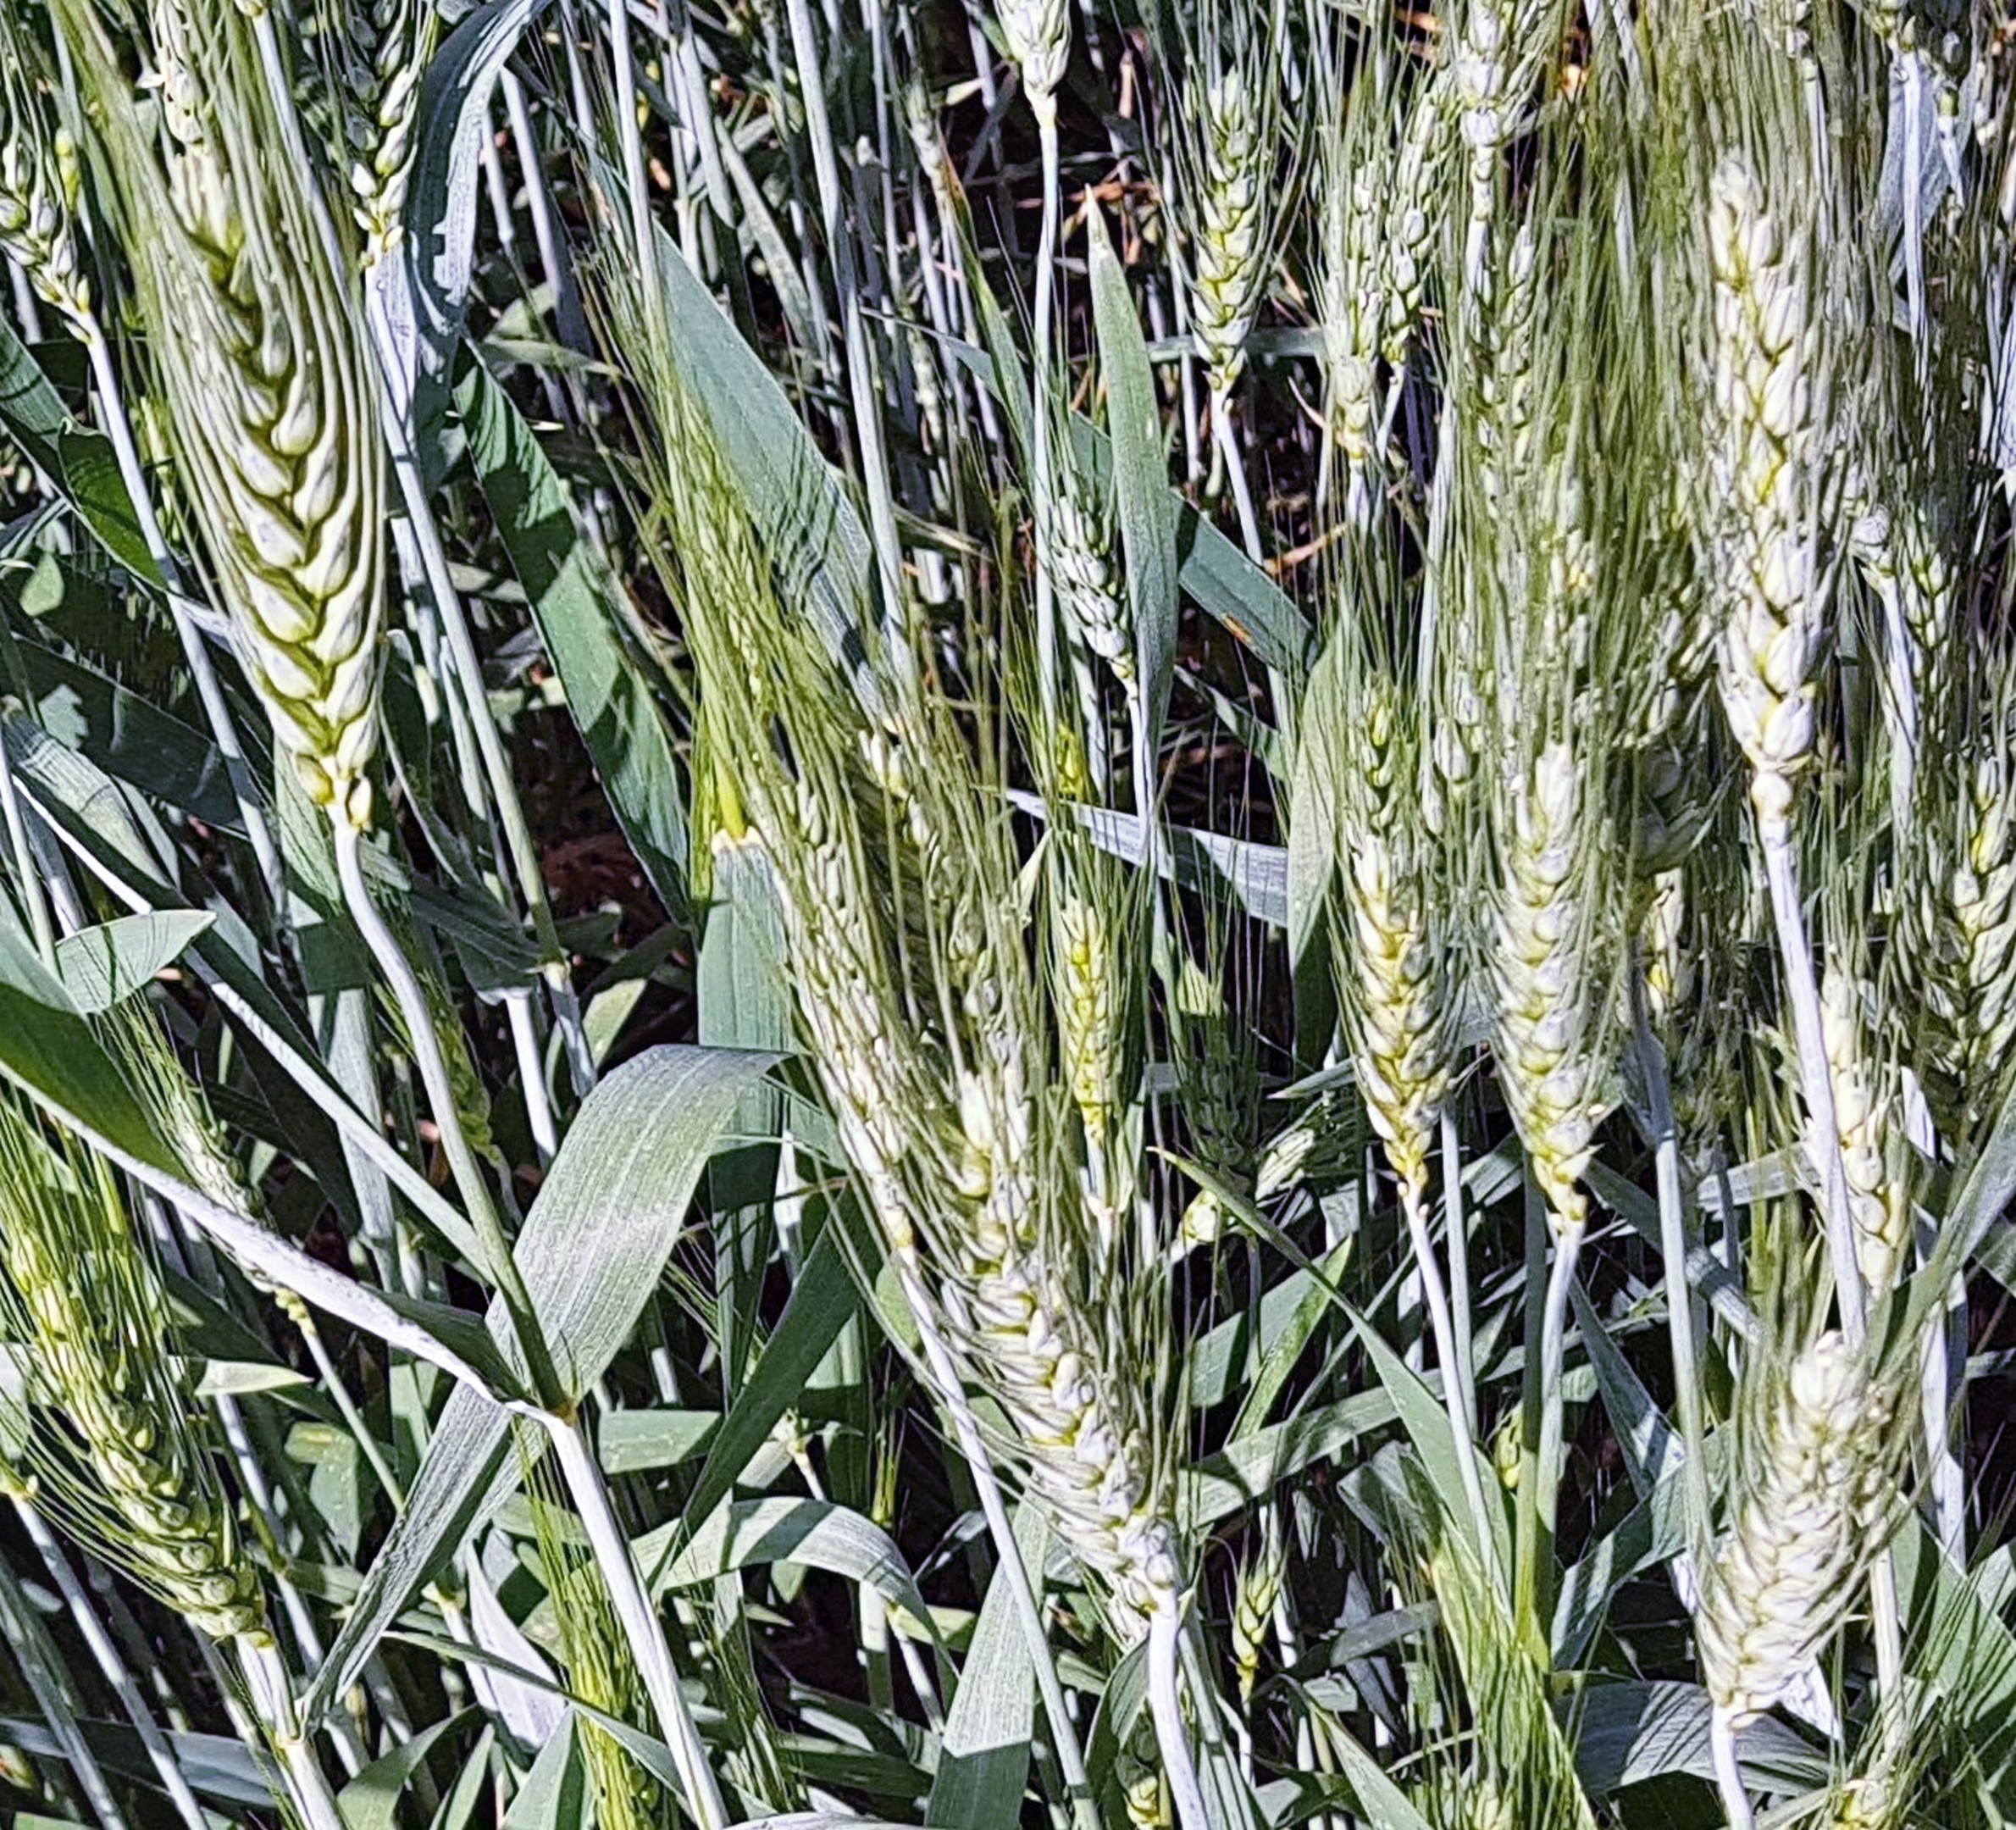Healthy Wheat: (146, 158, 434, 815), (968, 1221, 1250, 1651), (1661, 1333, 1904, 1740), (1479, 755, 1642, 1212)
